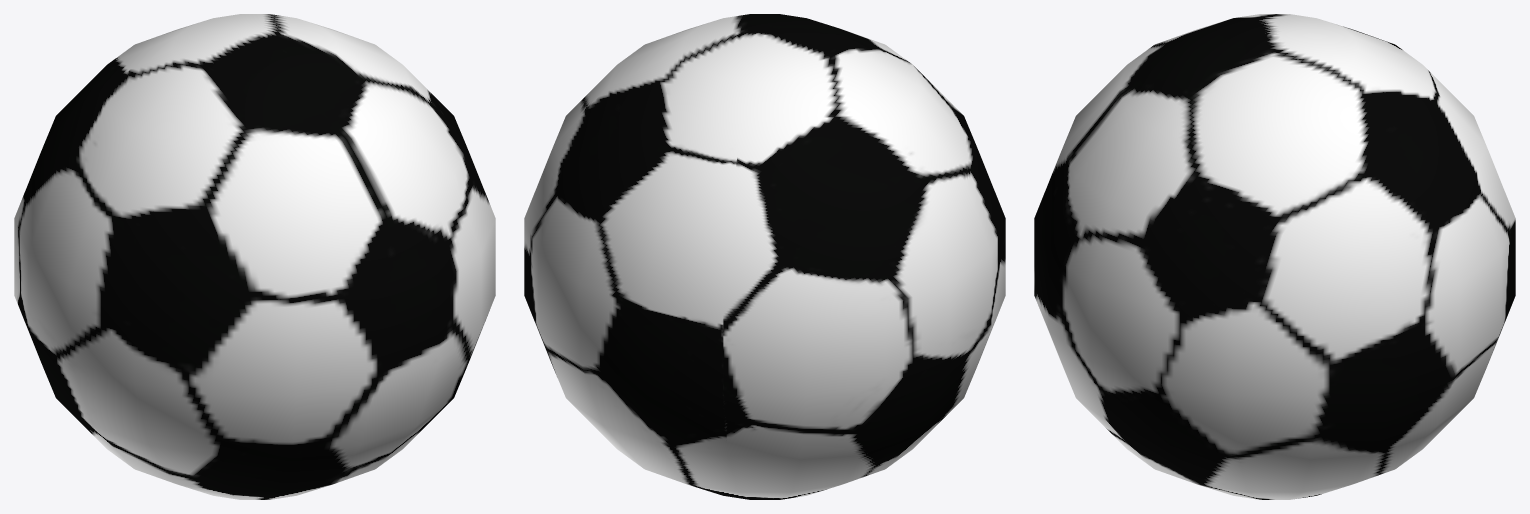
Rendered from Football.FBX.
3 renders of one model, left to right at view 1: azimuth 30°, elevation 25°; view 2: azimuth 150°, elevation 25°; view 3: azimuth 270°, elevation 25°, orthographic.
Visible parts, largest first — view 1: Football; view 2: Football; view 3: Football.
Boxes of the visible parts, x1=… form: Football: x1=14, y1=14, x2=495, y2=499; Football: x1=524, y1=14, x2=1005, y2=499; Football: x1=1034, y1=14, x2=1515, y2=499.
Size of the model in its own units: 38.7 by 39.3 by 39.9.
Materials: 1 (1 with a texture image).
